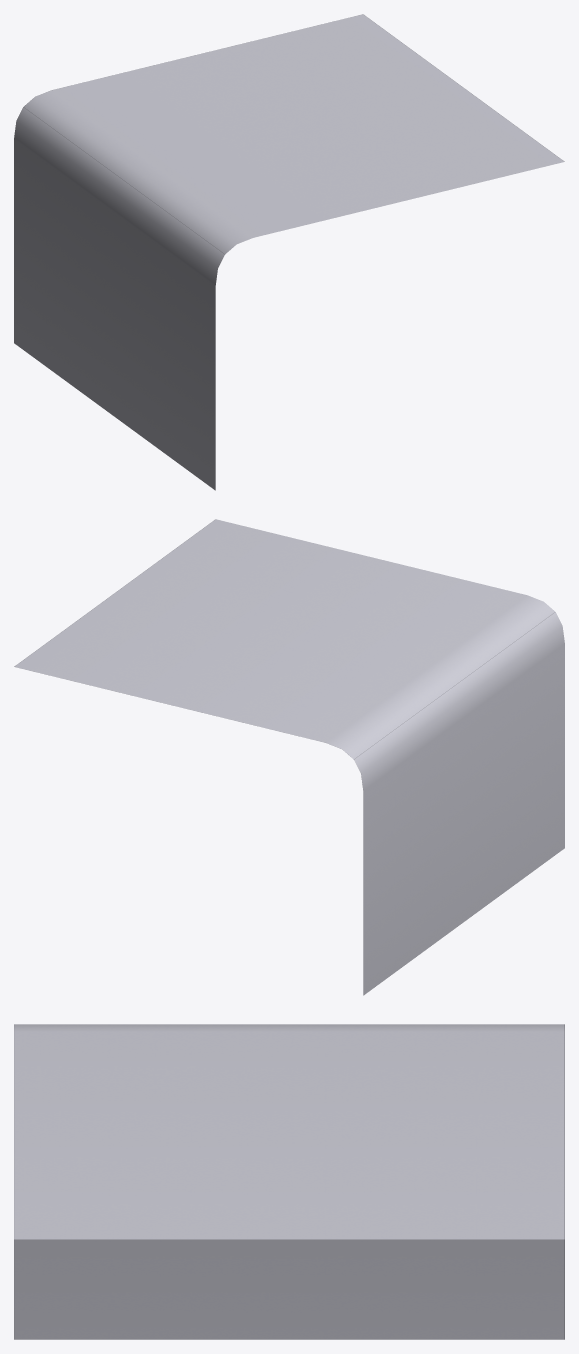
File: Plate_Form_05_LP.FBX
3 renders of one model, top to bottom at view 1: azimuth 30°, elevation 25°; view 2: azimuth 150°, elevation 25°; view 3: azimuth 270°, elevation 25°, orthographic. The views are drawn at different scales.
Parts seen in each view (by area): view 1: Plate_Form_05_LP; view 2: Plate_Form_05_LP; view 3: Plate_Form_05_LP.
Boxes of the visible parts, x1,y1,x2,y2 form: Plate_Form_05_LP: (14, 14, 564, 490); Plate_Form_05_LP: (14, 519, 564, 995); Plate_Form_05_LP: (14, 1024, 564, 1339).
Size of the model in its own units: 6 by 4 by 6.
